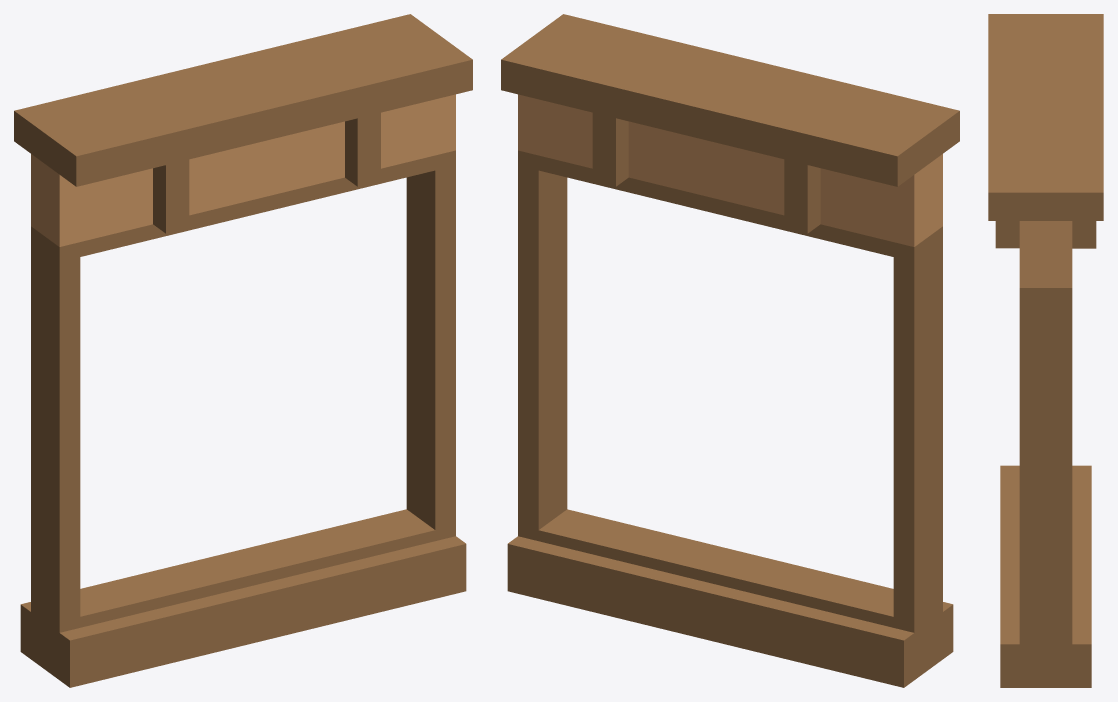
File: Door (3).fbx
The picture shows the model from 3 angles, left to right: view 1: azimuth 30°, elevation 25°; view 2: azimuth 150°, elevation 25°; view 3: azimuth 270°, elevation 25°; orthographic projection. The views are drawn at different scales.
Visible parts, largest first — view 1: Wall_Door; view 2: Wall_Door; view 3: Wall_Door.
Boxes of the visible parts, bbox=[...] form: Wall_Door: bbox=[14, 14, 472, 687]; Wall_Door: bbox=[501, 14, 959, 687]; Wall_Door: bbox=[988, 14, 1103, 687].
Bounding box in the file's own units: 400 × 517 × 109.
